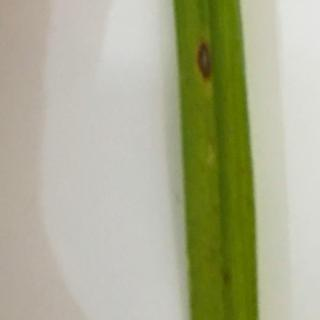Blast: (186, 5, 236, 129)
